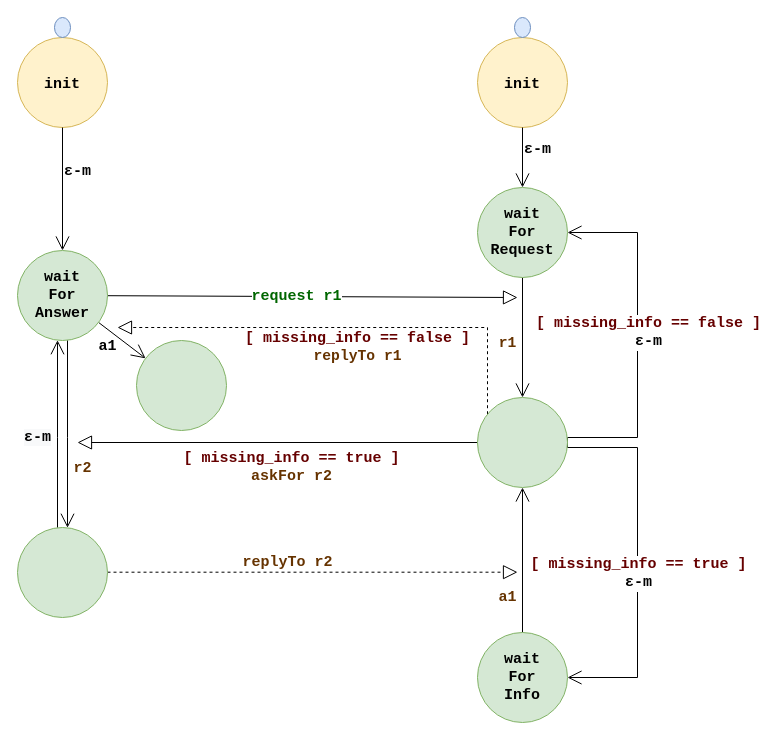
Image size: 778x740. Some labels were removed from this diagram. The shapes that lost their labels are listed below. From the top down, each one's box as (x1, y1, x2, y2) in pixels, then its label:
(136, 340, 226, 430): handle Response
(476, 396, 568, 488): handle Request
(16, 526, 108, 618): handle AskFrom Server
